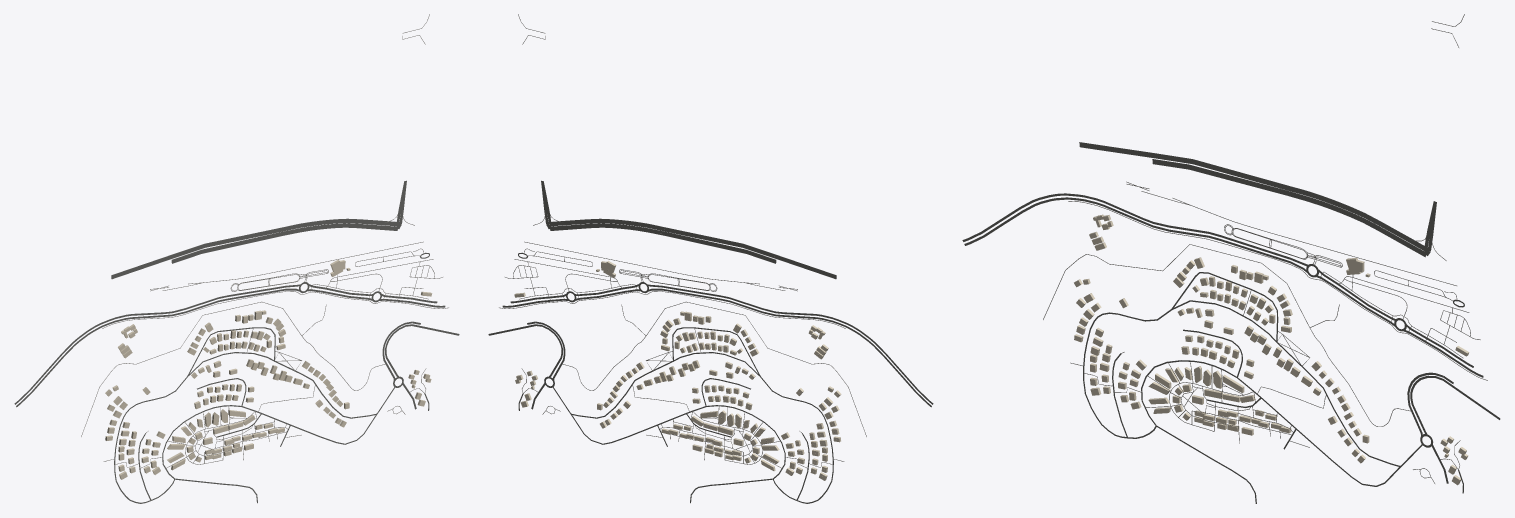
The model's file is historic-palestine-11_35_3529_3292.glb.
3 views of the same model, side by side, from view 1: azimuth 30°, elevation 25°; view 2: azimuth 150°, elevation 25°; view 3: azimuth 330°, elevation 25° (orthographic). The views are drawn at different scales.
Parts seen in each view (by area): view 1: Road 85.001, Road דרור.003, Road דרור.004, Road רמים, Road 85.005, Road 85, Road 85.003; view 2: Road 85.001, Road דרור.003, Road דרור.004, Road רמים, Road 85.005, Road 85, Road 85.003; view 3: Road 85.001, Road דרור.003, Road דרור.004, Road רמים, Road 85.005, Road 85, Road 85.003.
Boxes of the visible parts, x1,y1,x2,y2 form: Road 85.001: [111, 227, 283, 279]; Road דרור.003: [14, 284, 300, 404]; Road דרור.004: [16, 288, 299, 407]; Road רמים: [162, 386, 395, 503]; Road 85.005: [286, 218, 400, 230]; Road 85: [286, 223, 398, 234]; Road 85.003: [171, 231, 282, 263]; Road 85.001: [664, 227, 836, 279]; Road דרור.003: [647, 284, 933, 404]; Road דרור.004: [648, 288, 931, 407]; Road רמים: [552, 386, 785, 503]; Road 85.005: [547, 218, 661, 230]; Road 85: [550, 223, 661, 234]; Road 85.003: [665, 231, 776, 263]; Road 85.001: [1079, 142, 1287, 190]; Road דרור.003: [962, 193, 1307, 266]; Road דרור.004: [964, 197, 1306, 272]; Road רמים: [1141, 360, 1422, 503]; Road 85.005: [1291, 186, 1429, 253]; Road 85: [1291, 192, 1426, 257]; Road 85.003: [1152, 159, 1286, 195].
Bounding box in the file's own units: 1316 × 1263 × 8.95.
